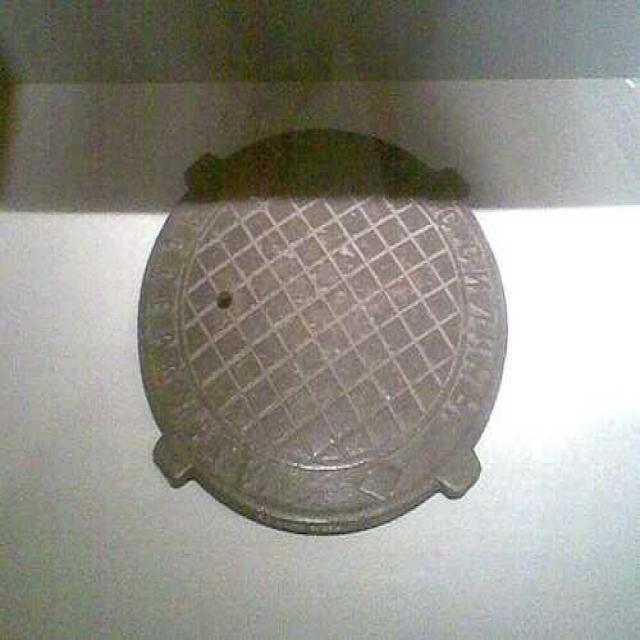manhole: (139, 132, 507, 533)
